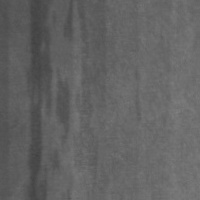inclusion: (23, 0, 73, 198), (130, 65, 147, 126)
